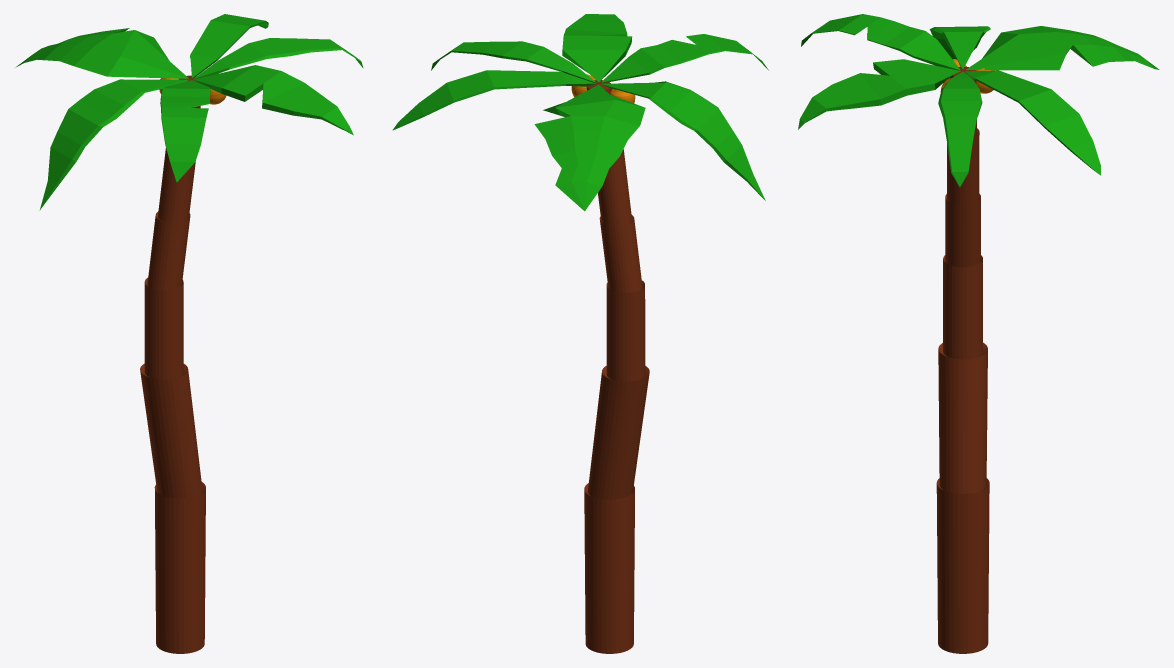
The model's file is palmier.fbx.
3 renders of one model, left to right at view 1: azimuth 30°, elevation 25°; view 2: azimuth 150°, elevation 25°; view 3: azimuth 270°, elevation 25°, orthographic. The views are drawn at different scales.
Visible parts, largest first — view 1: Cylinder; view 2: Cylinder; view 3: Cylinder.
Boxes of the visible parts, box(x1,y1,x2,y2) form: Cylinder: box(15, 14, 363, 653); Cylinder: box(392, 14, 768, 653); Cylinder: box(798, 14, 1159, 653).
Size of the model in its own units: 345 by 577 by 317.
